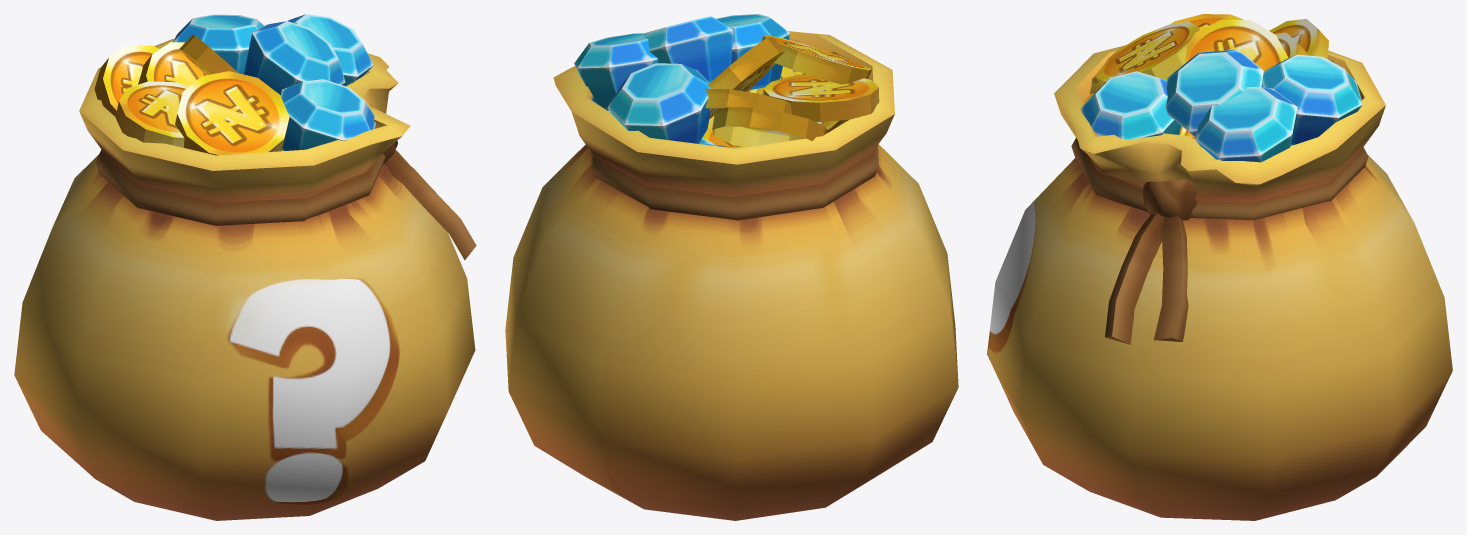
The model's file is moneybag_open.fbx.
The picture shows the model from 3 angles, left to right: view 1: azimuth 30°, elevation 25°; view 2: azimuth 150°, elevation 25°; view 3: azimuth 270°, elevation 25°; orthographic projection.
Parts seen in each view (by area): view 1: Monetbag, COin1, Monetbag2, pCylinder11, pCylinder9, COin2, pCylinder8, pCube1, pCylinder10, COin5, COin3, COin4; view 2: Monetbag, Monetbag2, pCylinder8, COin2, pCylinder9, pCylinder10, COin5, COin1, COin4, pCylinder11, COin3; view 3: Monetbag, pCylinder10, pCylinder8, Monetbag2, pCylinder9, pCylinder11, pCube1, COin1, pCube2, COin4, pCylinder3, COin5.
Boxes of the visible parts, left/top/right/bottom form: Monetbag: left=14, top=39, right=475, bottom=520; COin1: left=175, top=71, right=289, bottom=155; Monetbag2: left=95, top=149, right=385, bottom=225; pCylinder11: left=280, top=79, right=375, bottom=150; pCylinder9: left=244, top=21, right=345, bottom=95; COin2: left=115, top=81, right=189, bottom=147; pCylinder8: left=173, top=14, right=263, bottom=74; pCube1: left=385, top=153, right=476, bottom=260; pCylinder10: left=287, top=14, right=373, bottom=86; COin5: left=94, top=45, right=159, bottom=116; COin3: left=138, top=42, right=205, bottom=85; COin4: left=179, top=35, right=238, bottom=75; Monetbag: left=505, top=31, right=958, bottom=520; Monetbag2: left=591, top=145, right=878, bottom=220; pCylinder8: left=607, top=63, right=710, bottom=143; COin2: left=763, top=74, right=879, bottom=121; pCylinder9: left=644, top=16, right=733, bottom=82; pCylinder10: left=574, top=33, right=658, bottom=110; COin5: left=712, top=107, right=827, bottom=147; COin1: left=761, top=35, right=871, bottom=84; COin4: left=708, top=36, right=784, bottom=118; pCylinder11: left=716, top=14, right=790, bottom=90; COin3: left=705, top=88, right=791, bottom=126; Monetbag: left=987, top=45, right=1452, bottom=520; pCylinder10: left=1195, top=86, right=1297, bottom=162; pCylinder8: left=1262, top=54, right=1362, bottom=144; Monetbag2: left=1071, top=138, right=1368, bottom=220; pCylinder9: left=1166, top=49, right=1263, bottom=136; pCylinder11: left=1080, top=71, right=1180, bottom=139; pCube1: left=1105, top=213, right=1164, bottom=344; COin1: left=1096, top=21, right=1199, bottom=86; pCube2: left=1153, top=216, right=1188, bottom=341; COin4: left=1185, top=19, right=1288, bottom=70; pCylinder3: left=1142, top=179, right=1197, bottom=220; COin5: left=1269, top=19, right=1328, bottom=58.
Size of the model in its own units: 2.11 by 2.32 by 2.17.
1 material, 1 textured.
